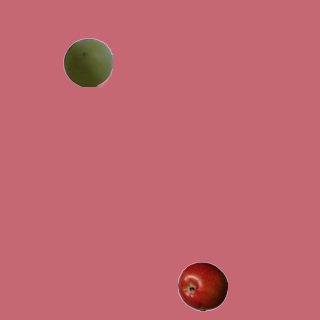Apple Braeburn: (177, 261, 227, 311)
Grape White 4: (62, 37, 112, 87)
